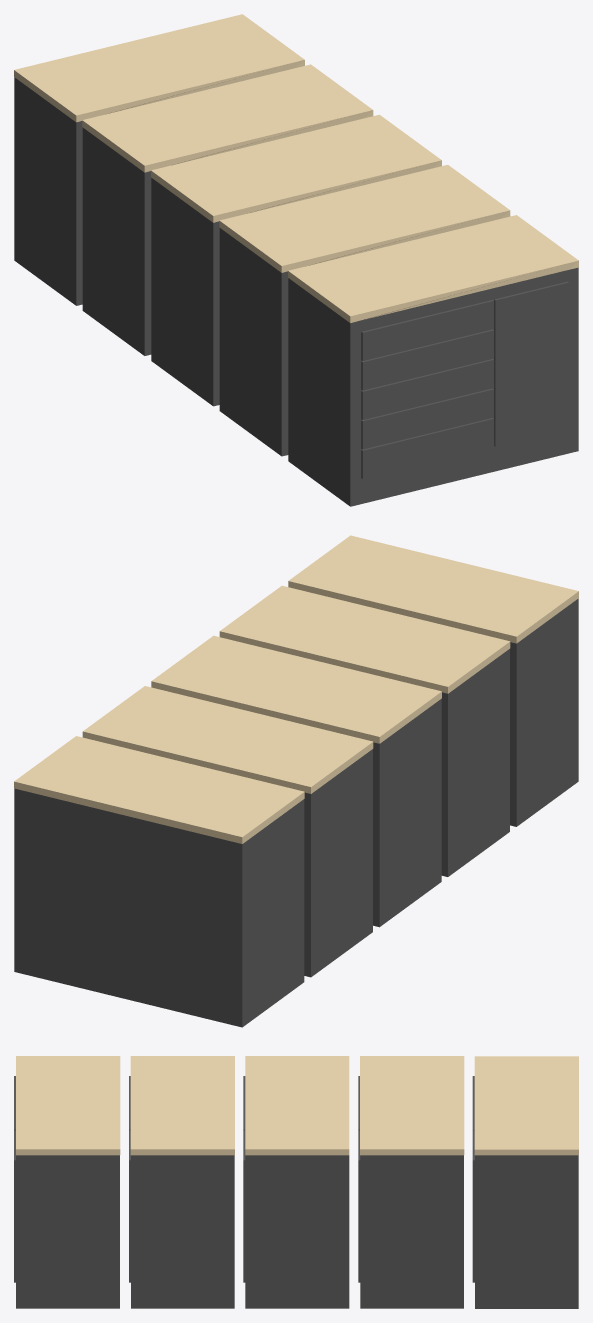
The picture shows the model from 3 angles, top to bottom: view 1: azimuth 30°, elevation 25°; view 2: azimuth 150°, elevation 25°; view 3: azimuth 270°, elevation 25°; orthographic projection. The views are drawn at different scales.
Parts seen in each view (by area): view 1: imagetostl_mesh44, imagetostl_mesh134, imagetostl_mesh98, imagetostl_mesh4, imagetostl_mesh184, imagetostl_mesh9, imagetostl_mesh2, imagetostl_mesh170, imagetostl_mesh95, imagetostl_mesh133, imagetostl_mesh45, imagetostl_mesh35 (+14 smaller); view 2: imagetostl_mesh206, imagetostl_mesh4, imagetostl_mesh98, imagetostl_mesh184, imagetostl_mesh134, imagetostl_mesh44, imagetostl_mesh2, imagetostl_mesh170, imagetostl_mesh95, imagetostl_mesh45, imagetostl_mesh133, imagetostl_mesh181 (+8 smaller); view 3: imagetostl_mesh118, imagetostl_mesh81, imagetostl_mesh82, imagetostl_mesh129, imagetostl_mesh191, imagetostl_mesh184, imagetostl_mesh4, imagetostl_mesh44, imagetostl_mesh98, imagetostl_mesh134, imagetostl_mesh8, imagetostl_mesh43 (+6 smaller).
Part boxes in pixels (x1=…): imagetostl_mesh44: x1=219, y1=165, x2=509, y2=265; imagetostl_mesh134: x1=82, y1=64, x2=372, y2=165; imagetostl_mesh98: x1=151, y1=114, x2=441, y2=215; imagetostl_mesh4: x1=288, y1=215, x2=578, y2=316; imagetostl_mesh184: x1=14, y1=14, x2=304, y2=115; imagetostl_mesh9: x1=350, y1=267, x2=578, y2=506; imagetostl_mesh2: x1=288, y1=278, x2=350, y2=506; imagetostl_mesh170: x1=14, y1=77, x2=76, y2=305; imagetostl_mesh95: x1=151, y1=178, x2=213, y2=405; imagetostl_mesh133: x1=82, y1=127, x2=144, y2=355; imagetostl_mesh45: x1=219, y1=228, x2=281, y2=455; imagetostl_mesh35: x1=495, y1=282, x2=568, y2=446; imagetostl_mesh206: x1=14, y1=788, x2=242, y2=1027; imagetostl_mesh4: x1=288, y1=535, x2=578, y2=636; imagetostl_mesh98: x1=151, y1=635, x2=441, y2=736; imagetostl_mesh184: x1=14, y1=736, x2=304, y2=837; imagetostl_mesh134: x1=83, y1=686, x2=372, y2=786; imagetostl_mesh44: x1=220, y1=585, x2=509, y2=686; imagetostl_mesh2: x1=516, y1=598, x2=578, y2=826; imagetostl_mesh170: x1=242, y1=799, x2=304, y2=1027; imagetostl_mesh95: x1=379, y1=699, x2=441, y2=926; imagetostl_mesh45: x1=448, y1=649, x2=509, y2=876; imagetostl_mesh133: x1=311, y1=749, x2=372, y2=977; imagetostl_mesh181: x1=14, y1=781, x2=242, y2=843; imagetostl_mesh118: x1=245, y1=1155, x2=349, y2=1308; imagetostl_mesh81: x1=131, y1=1155, x2=234, y2=1308; imagetostl_mesh82: x1=16, y1=1155, x2=119, y2=1308; imagetostl_mesh129: x1=360, y1=1155, x2=463, y2=1308; imagetostl_mesh191: x1=475, y1=1155, x2=578, y2=1308; imagetostl_mesh184: x1=474, y1=1056, x2=578, y2=1149; imagetostl_mesh4: x1=16, y1=1056, x2=120, y2=1149; imagetostl_mesh44: x1=130, y1=1056, x2=234, y2=1149; imagetostl_mesh98: x1=245, y1=1056, x2=349, y2=1149; imagetostl_mesh134: x1=360, y1=1056, x2=464, y2=1149; imagetostl_mesh8: x1=16, y1=1149, x2=120, y2=1155; imagetostl_mesh43: x1=130, y1=1149, x2=234, y2=1155.
Size of the model in its own units: 0.8213 by 0.6535 by 2.1.
